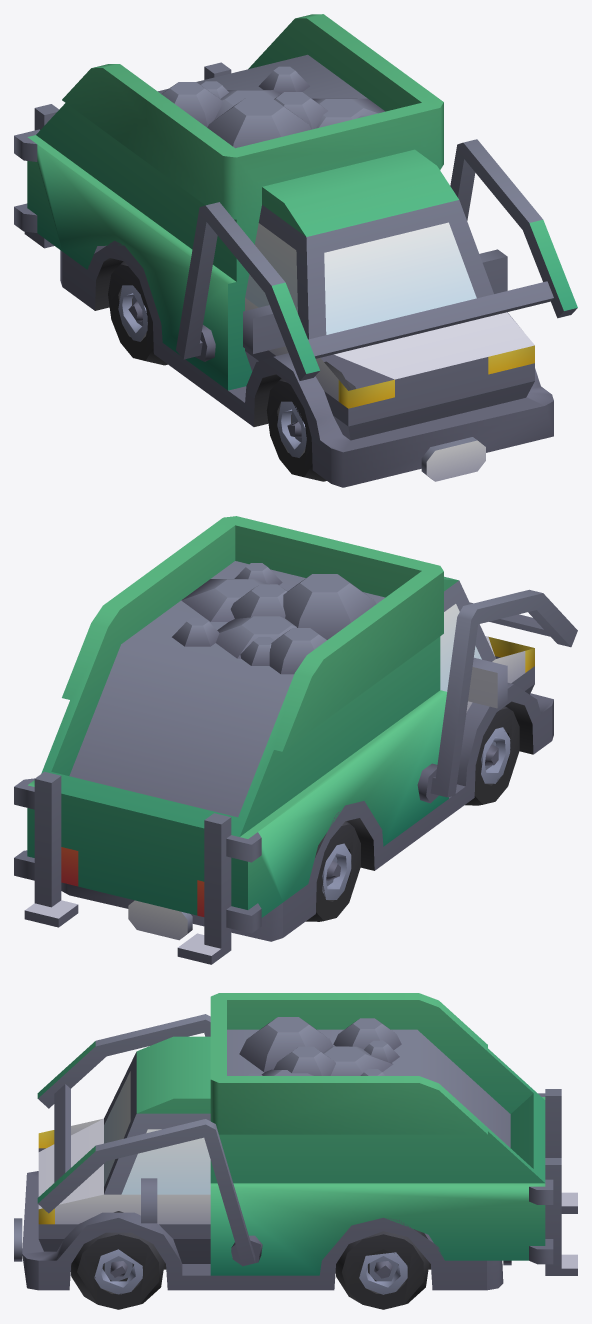
Rendered from cc0-garbage-truck-lod1.glb.
3 views of the same model, one above another, from view 1: azimuth 30°, elevation 25°; view 2: azimuth 150°, elevation 25°; view 3: azimuth 270°, elevation 25° (orthographic). The views are drawn at different scales.
Parts seen in each view (by area): view 1: part_0; view 2: part_0; view 3: part_0.
Boxes of the visible parts, box(x1,y1,x2,y2) form: part_0: box(14, 14, 577, 487); part_0: box(14, 516, 577, 964); part_0: box(14, 993, 577, 1309).
Size of the model in its own units: 1.6 by 1.6 by 3.45.
Materials: 1 (1 with a texture image).
